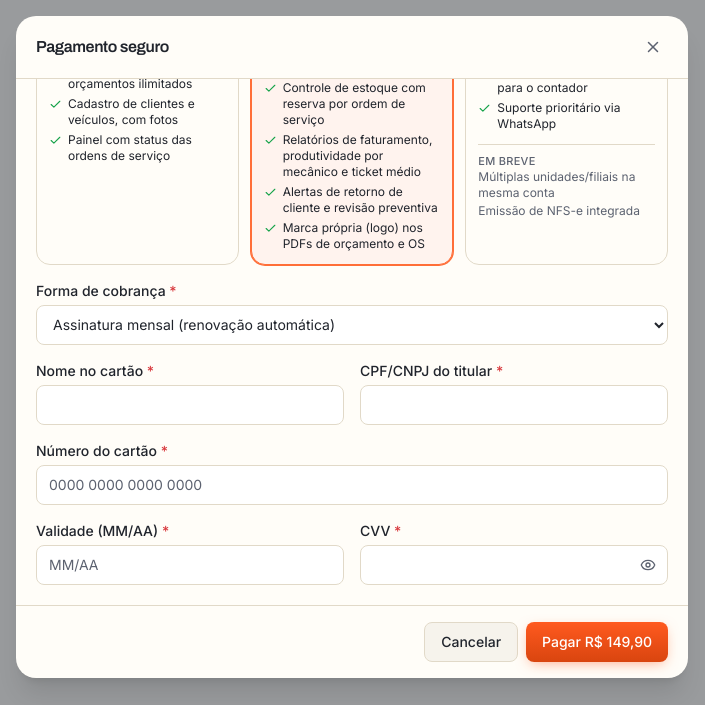
Scenario: PagamentoCartaoModal › never shows a raw upstream error dump to the user, even when the backend leaks one in mensagemErro (regressão)
(page scrolled)
Type "Ana Souza" into the field labelled "Nome no cartão *". click: [190, 405]
box: [36,385,344,425]
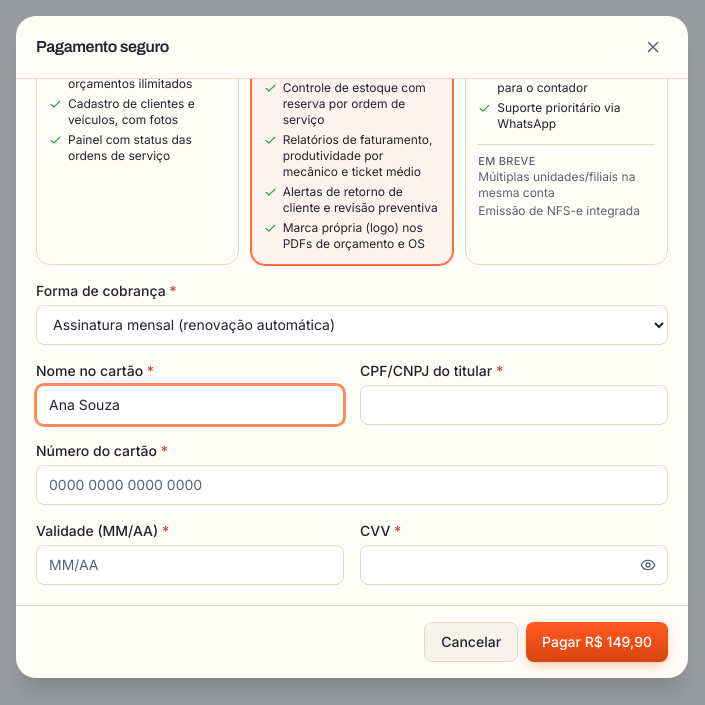
Type "12345678900" into the field labelled "CPF/CNPJ do titular *". click: [514, 405]
box: [360,385,668,425]
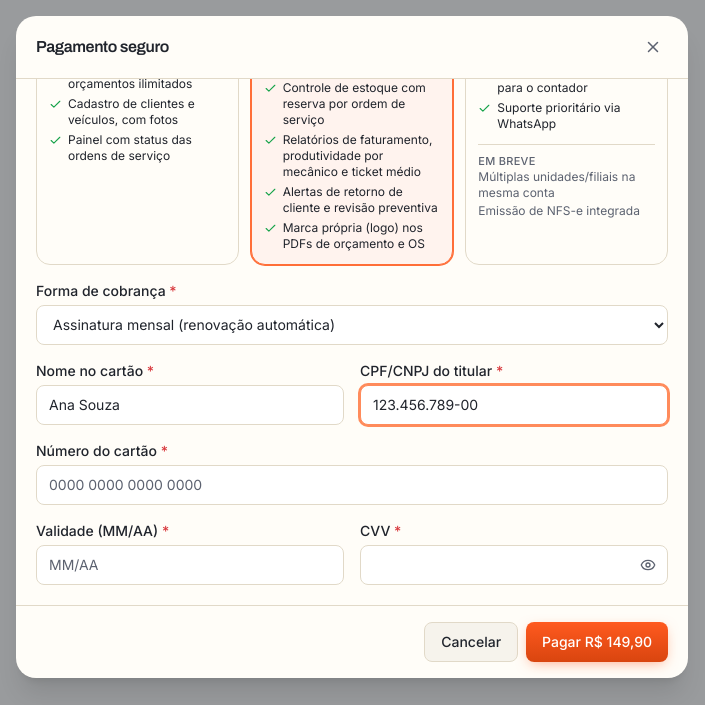
Type "4111111111111111" into the field labelled "Número do cartão *". click: [352, 485]
box: [36,465,668,505]
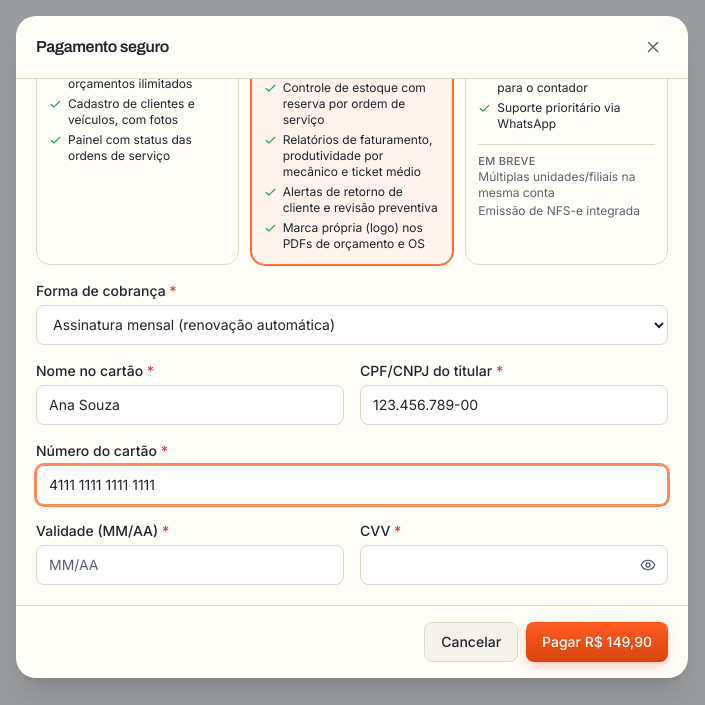
Type "1228" into the field labelled "Validade (MM/AA) *". click: [190, 565]
box: [36,545,344,585]
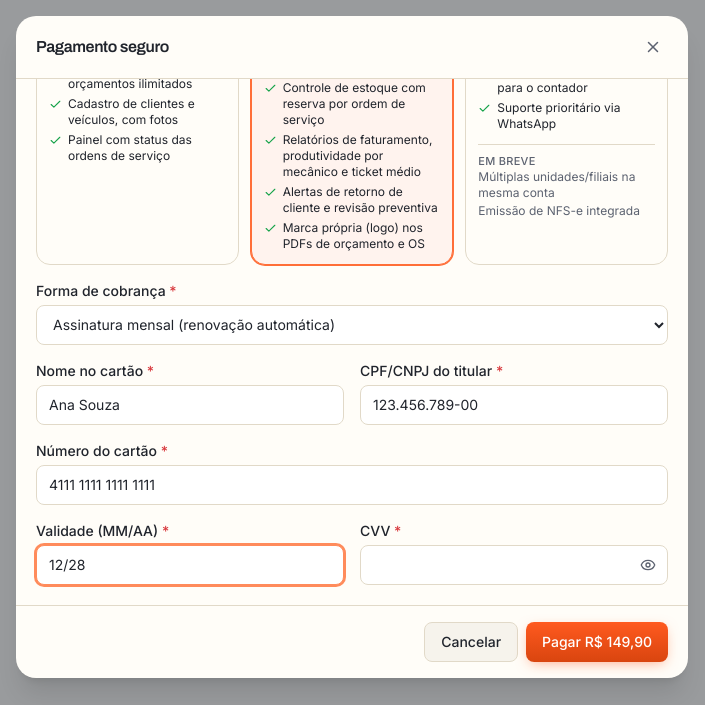
Type "123" into the password field labelled "CVV *". click: [514, 565]
box: [360,545,668,585]
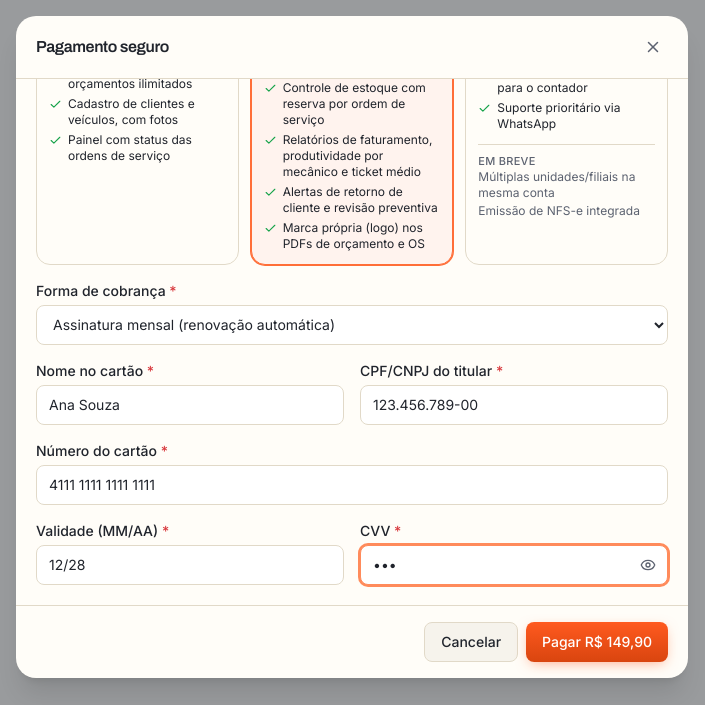
Click the button "Pagar R$ 149,90". click: [597, 642]
box: [526,622,668,662]
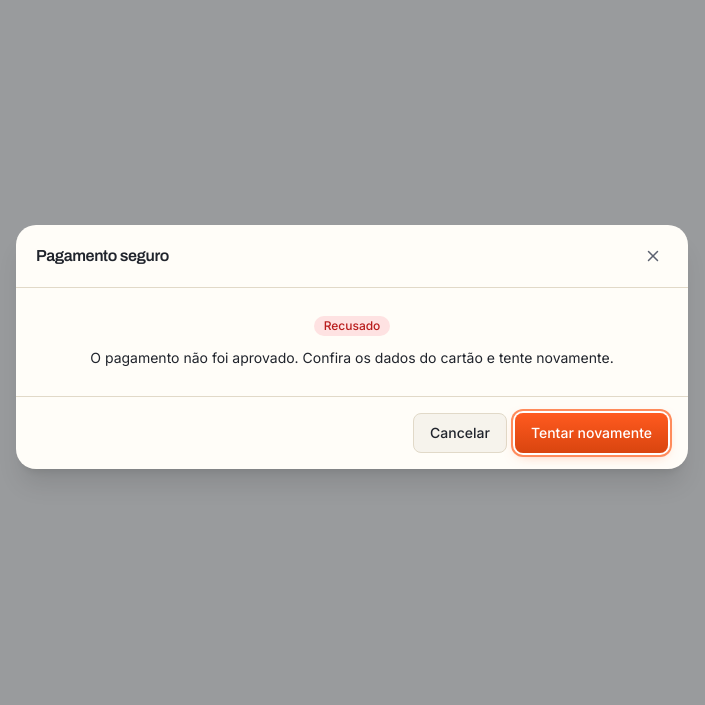
Expected: the text "O pagamento não foi aprovado. Confira os dados do cartão e tente novamente." is shown, [90,348,614,368]
